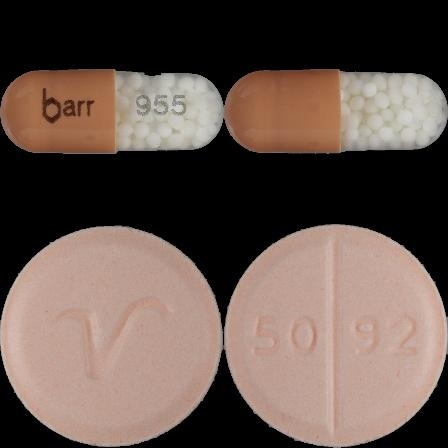60687-141: (0, 0, 224, 224)
